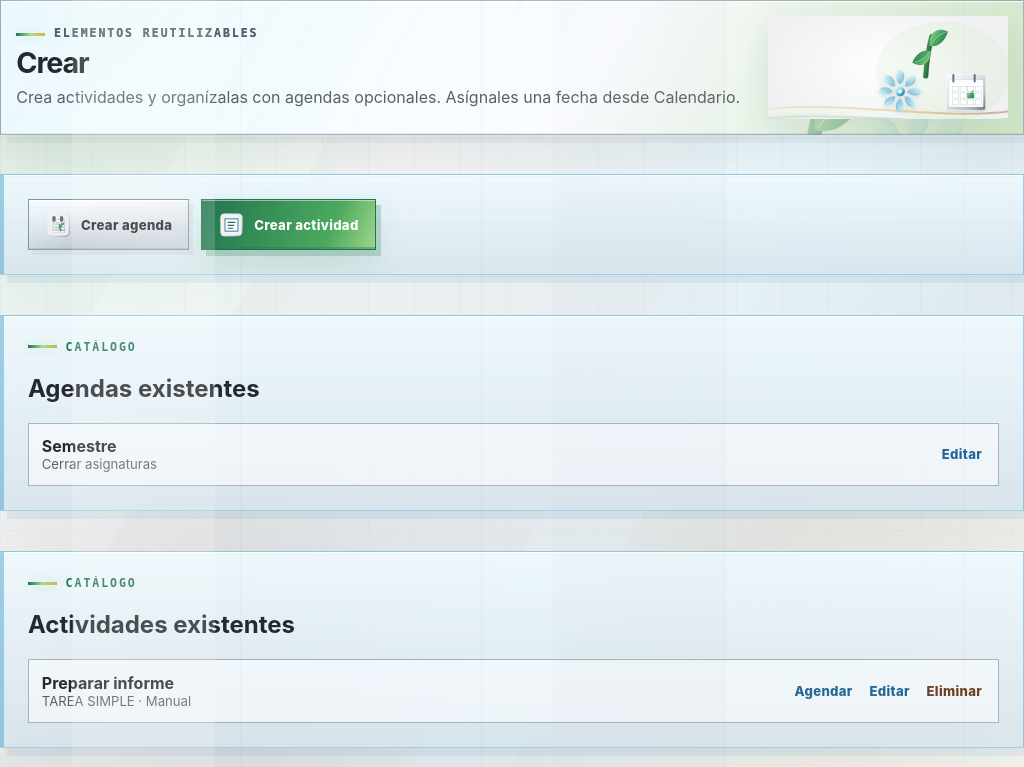
Scenario: página Crear › devuelve el foco a Crear actividad al cancelar su formulario
Click the button "Crear actividad" at x=288, y=225, box [201,200,376,250]
(page scrolled)
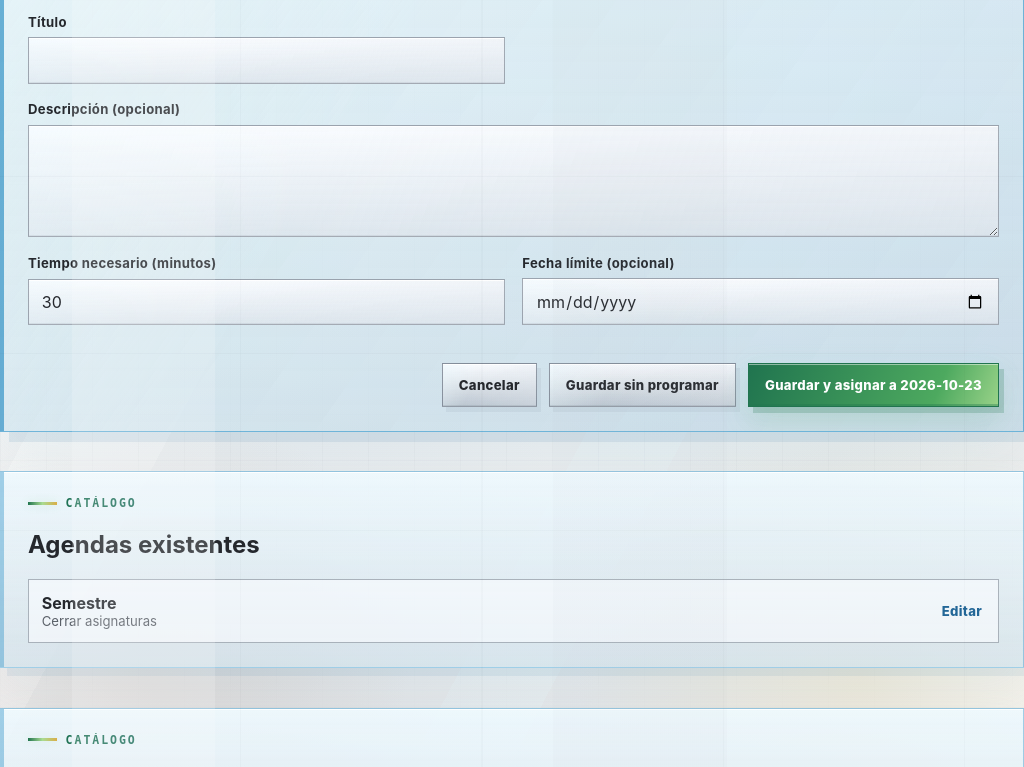
Click the button "Cancelar" at x=489, y=385, box [442,363,537,407]
(page scrolled)
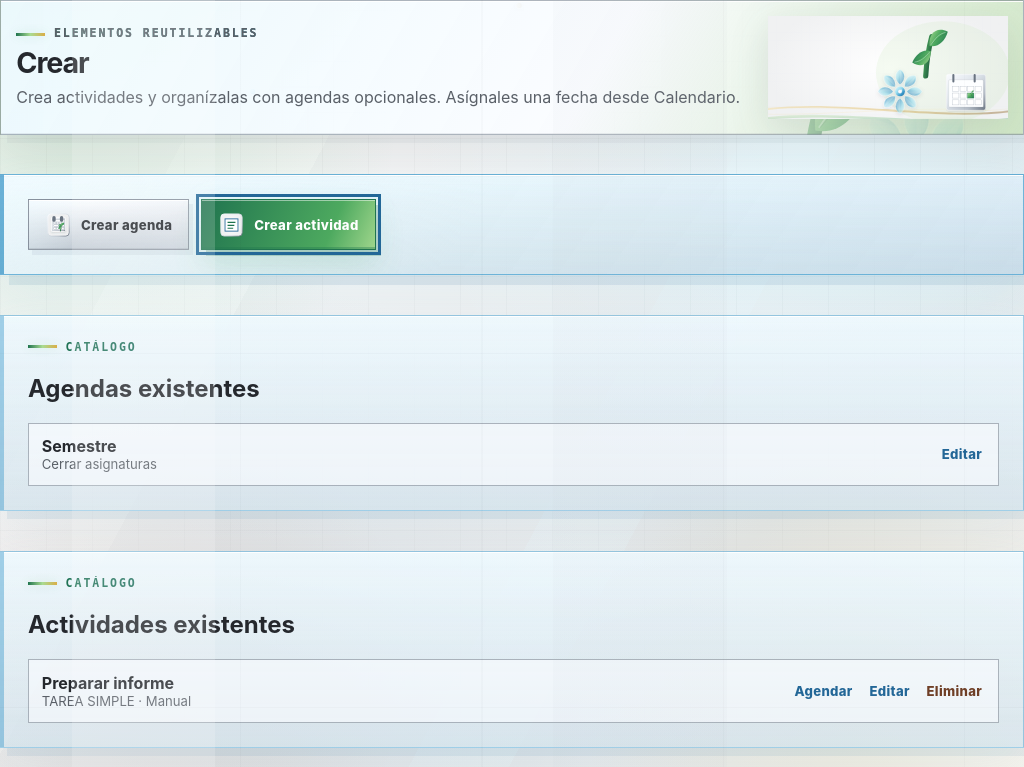
Now the button "Crear actividad" is collapsed, box [201,200,376,250]
